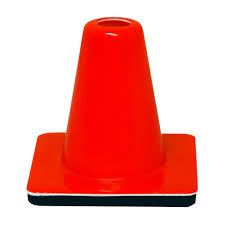cones: (25, 16, 198, 209)
